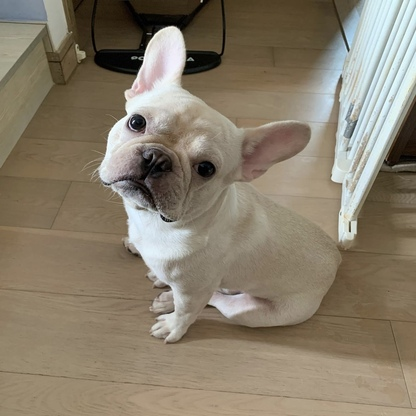bulldog: (96, 23, 344, 346)
